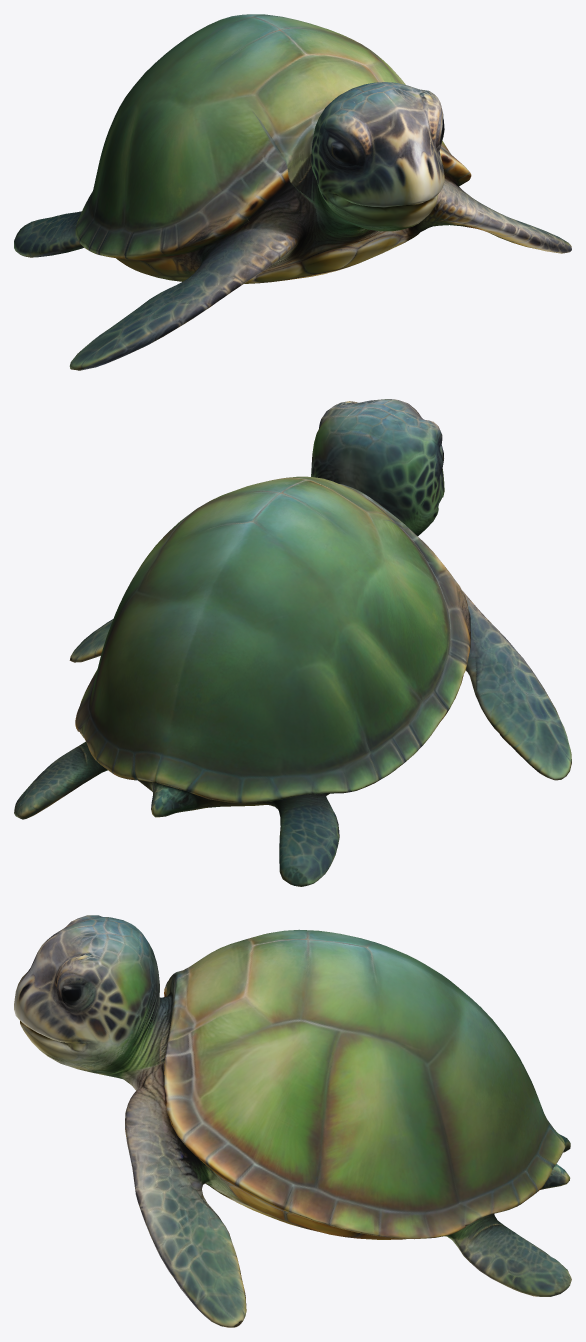
File: create_a_cartoon_sea__0903035904_texture.fbx
The picture shows the model from 3 angles, top to bottom: view 1: azimuth 30°, elevation 25°; view 2: azimuth 150°, elevation 25°; view 3: azimuth 270°, elevation 25°; orthographic projection. The views are drawn at different scales.
Visible parts, largest first — view 1: Mesh1.0; view 2: Mesh1.0; view 3: Mesh1.0.
Part boxes in pixels (x1,y1,x2,y2): Mesh1.0: [14, 14, 571, 370]; Mesh1.0: [14, 399, 571, 886]; Mesh1.0: [14, 915, 571, 1327].
Bounding box in the file's own units: 200 × 110 × 187.
Materials: 1 (1 with a texture image).
